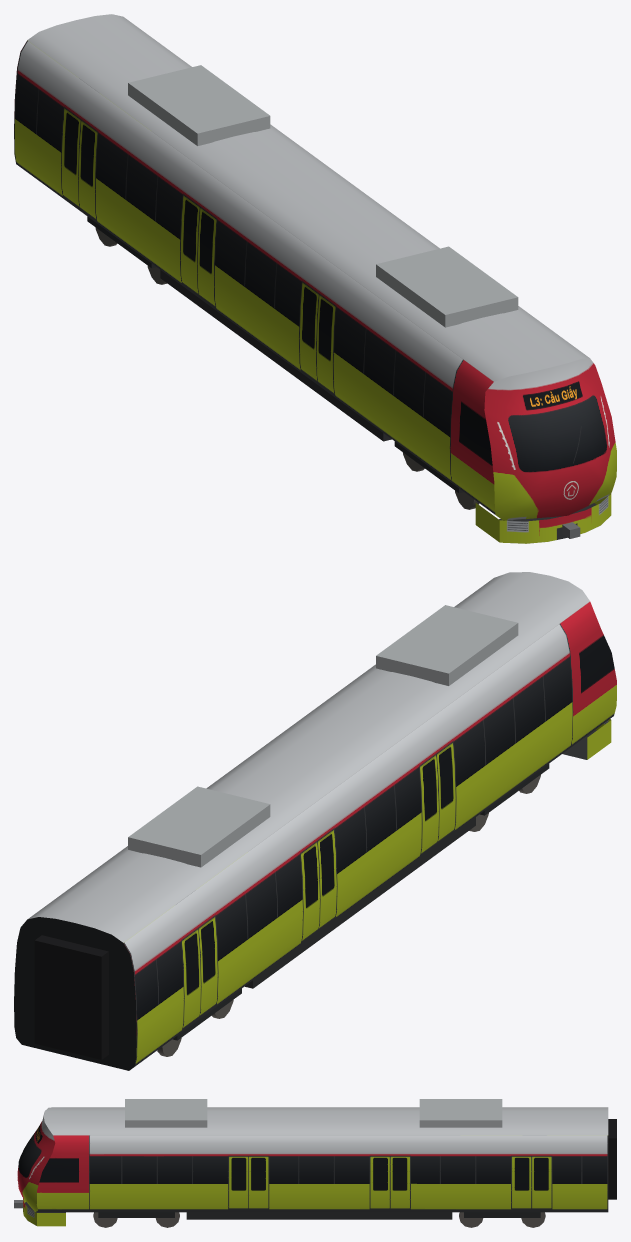
Rendered from SM_Train_End.fbx.
3 renders of one model, top to bottom at view 1: azimuth 30°, elevation 25°; view 2: azimuth 150°, elevation 25°; view 3: azimuth 270°, elevation 25°, orthographic. The views are drawn at different scales.
Visible parts, largest first — view 1: SM_Train_End_LOD0; view 2: SM_Train_End_LOD0; view 3: SM_Train_End_LOD0.
Part boxes in pixels (x1,y1,x2,y2): SM_Train_End_LOD0: [14, 14, 616, 543]; SM_Train_End_LOD0: [14, 572, 616, 1070]; SM_Train_End_LOD0: [14, 1099, 616, 1227].
Size of what is drawn, in the model's own units: 2.86 by 4.06 by 20.45.
